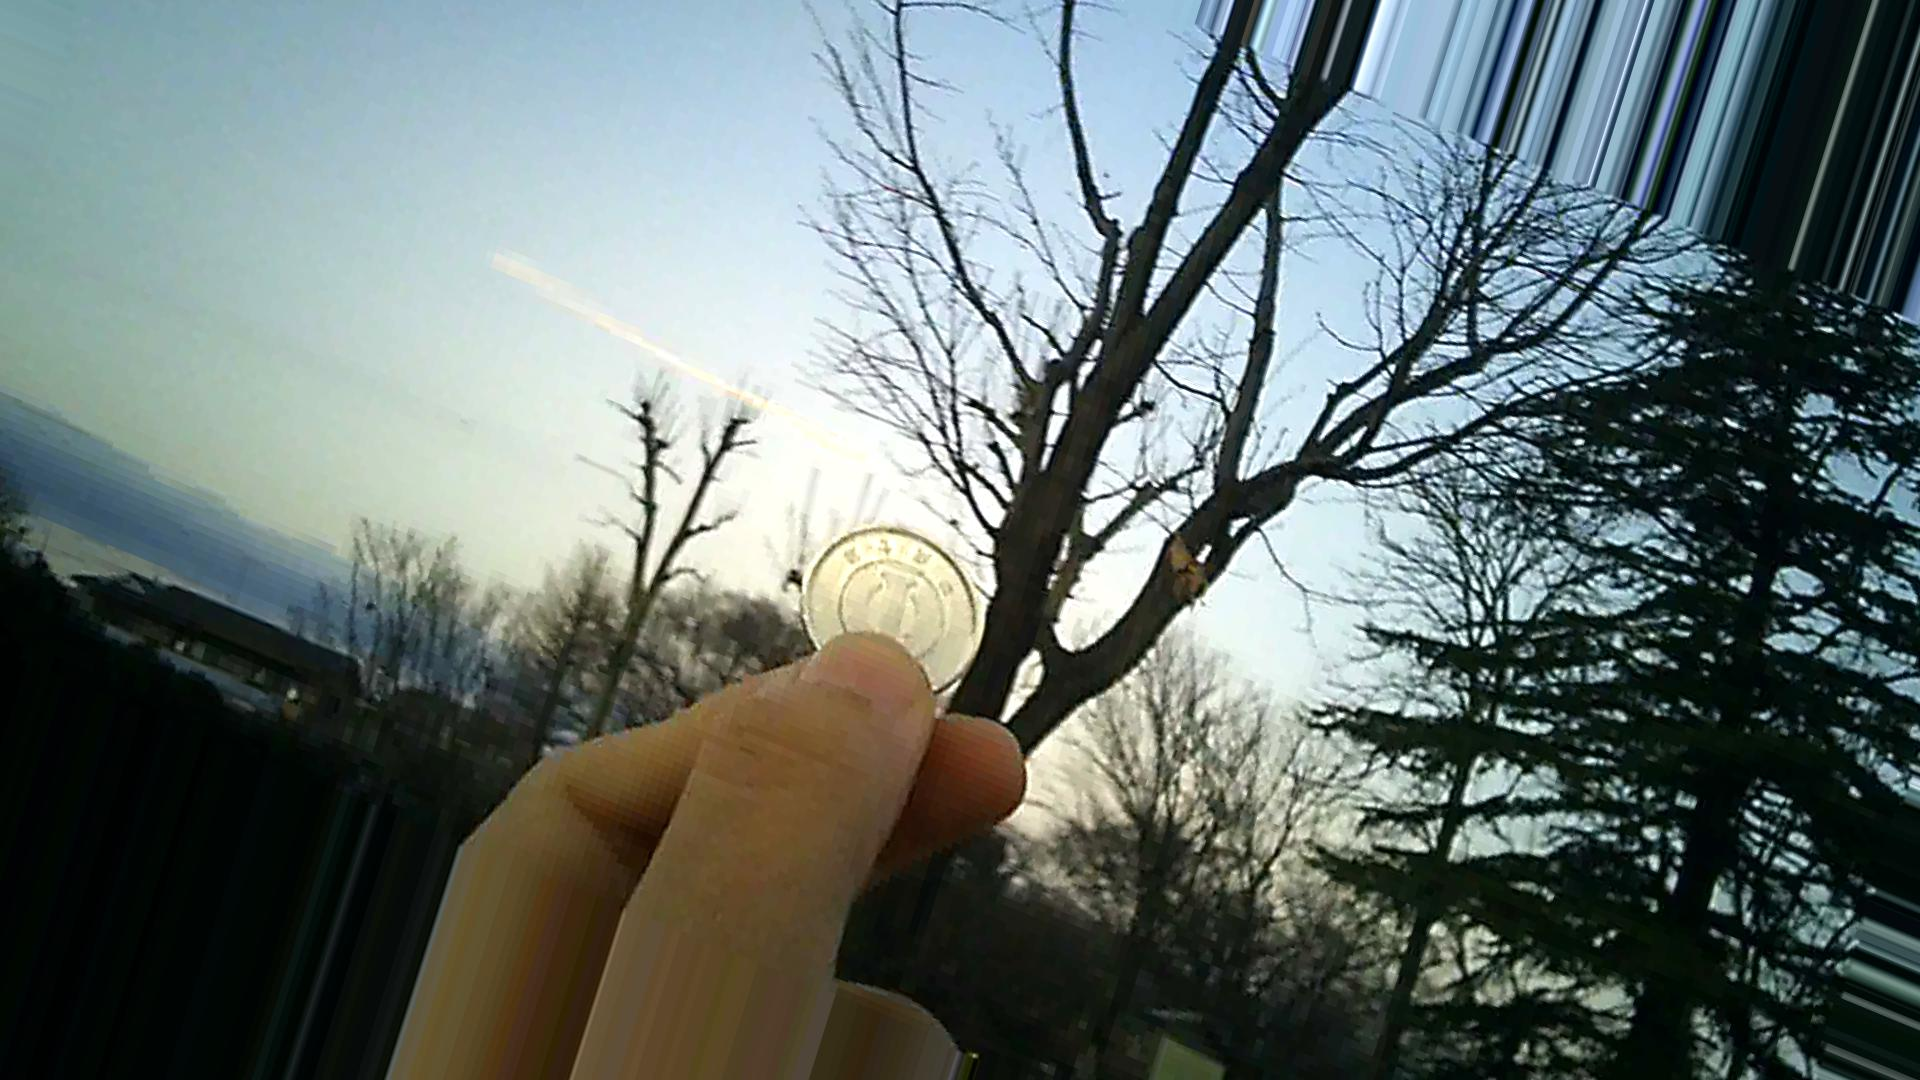1 Yen: (796, 517, 975, 704)
